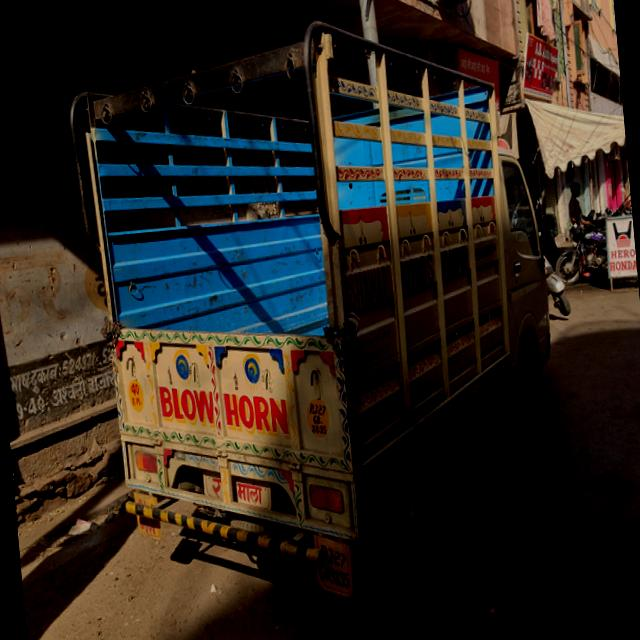Vehicle: (61, 0, 575, 623), (550, 204, 638, 286), (544, 252, 572, 318)
